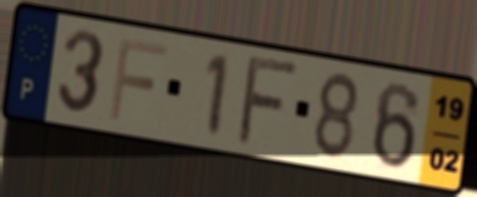1: (202, 53, 232, 140)
3: (53, 28, 107, 118)
6: (371, 80, 424, 172)
8: (310, 69, 364, 163)
F: (233, 54, 304, 149), (106, 34, 170, 124)
